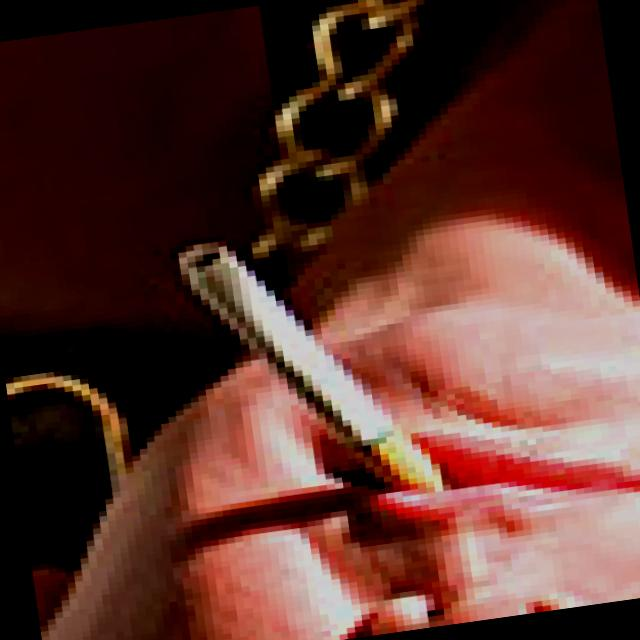smoke: (166, 208, 446, 538)
